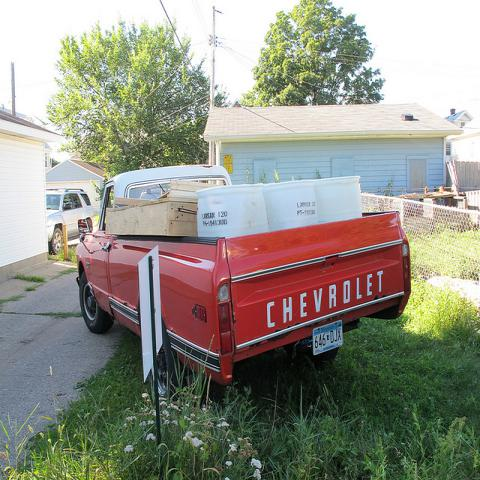car: (47, 189, 97, 252)
truck: (75, 165, 412, 399)
